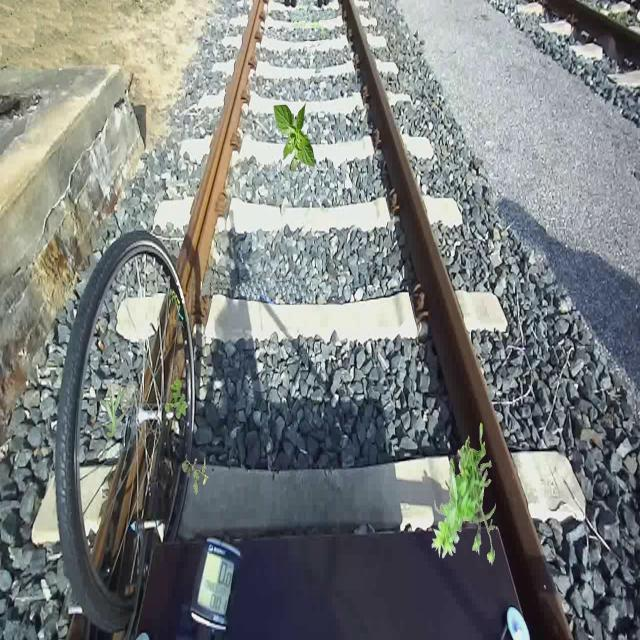Plant: (432, 422, 496, 566), (273, 102, 314, 173), (101, 382, 128, 438), (182, 454, 210, 495), (165, 379, 189, 420)
